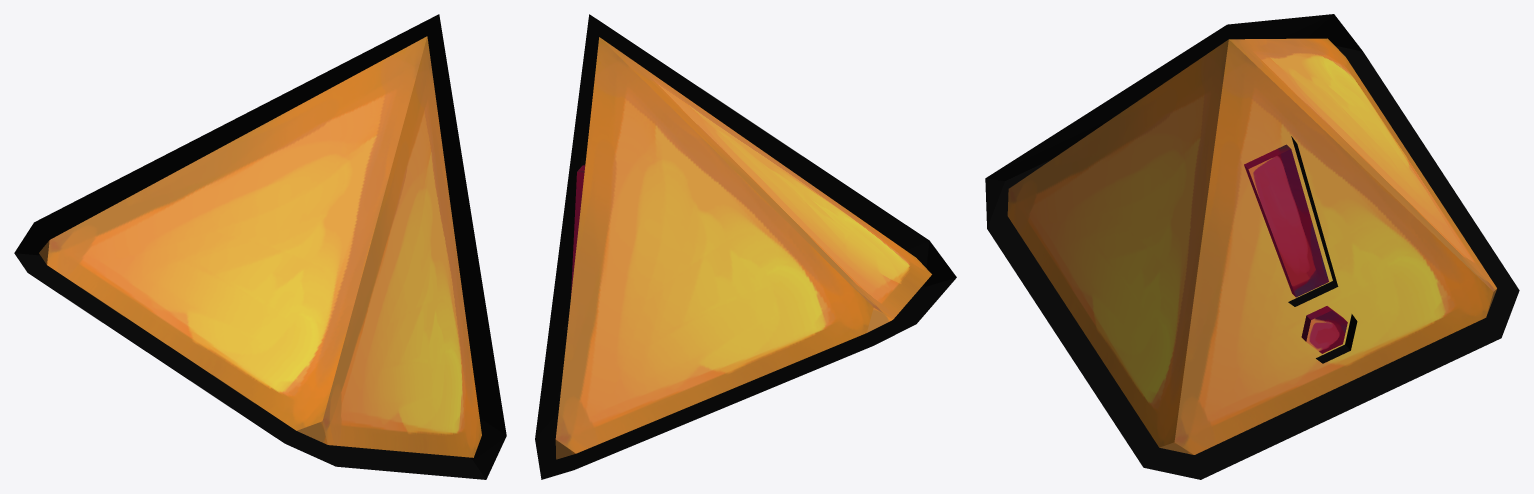
File: eyerah-bullets.fbx
3 views of the same model, side by side, from view 1: azimuth 30°, elevation 25°; view 2: azimuth 150°, elevation 25°; view 3: azimuth 270°, elevation 25° (orthographic). The views are drawn at different scales.
Parts seen in each view (by area): view 1: Exclamation Triangle; view 2: Exclamation Triangle, Exclamation Mark; view 3: Exclamation Triangle, Exclamation Mark.
Boxes of the visible parts, bbox=[...] form: Exclamation Triangle: bbox=[14, 14, 506, 479]; Exclamation Triangle: bbox=[535, 14, 956, 479]; Exclamation Mark: bbox=[558, 158, 585, 397]; Exclamation Triangle: bbox=[985, 14, 1519, 479]; Exclamation Mark: bbox=[1244, 136, 1357, 363].
Size of the model in its own units: 55.7 by 57.33 by 62.34.
